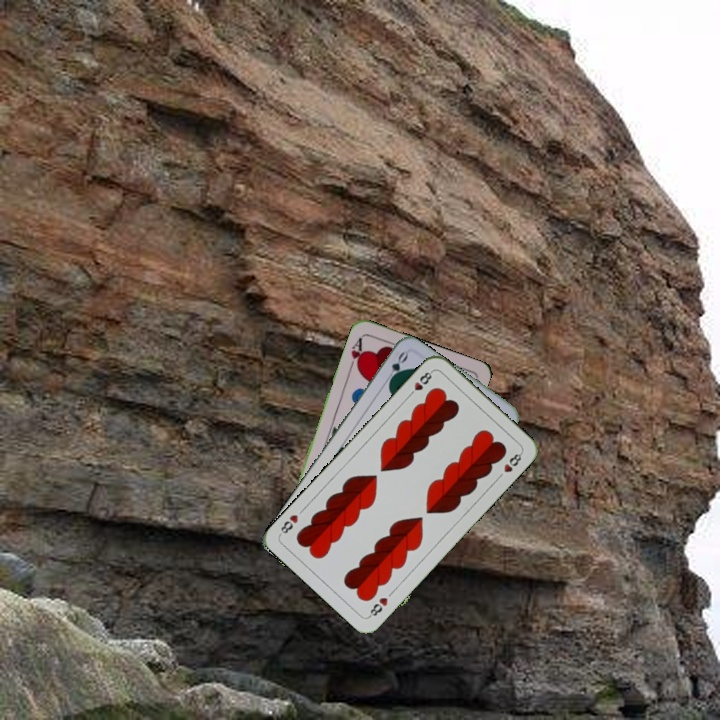GO: (381, 348, 411, 387)
H8: (404, 367, 436, 400), (364, 593, 390, 620)
HA: (345, 333, 367, 373)
